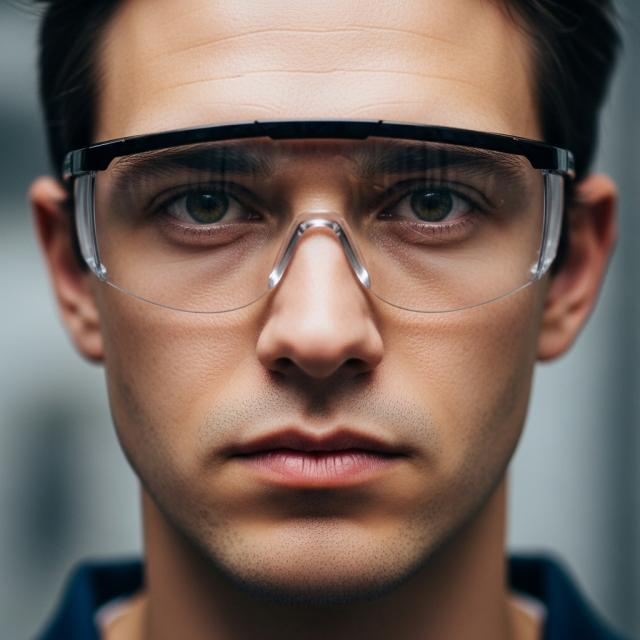oculos-epi: (66, 120, 572, 312)
